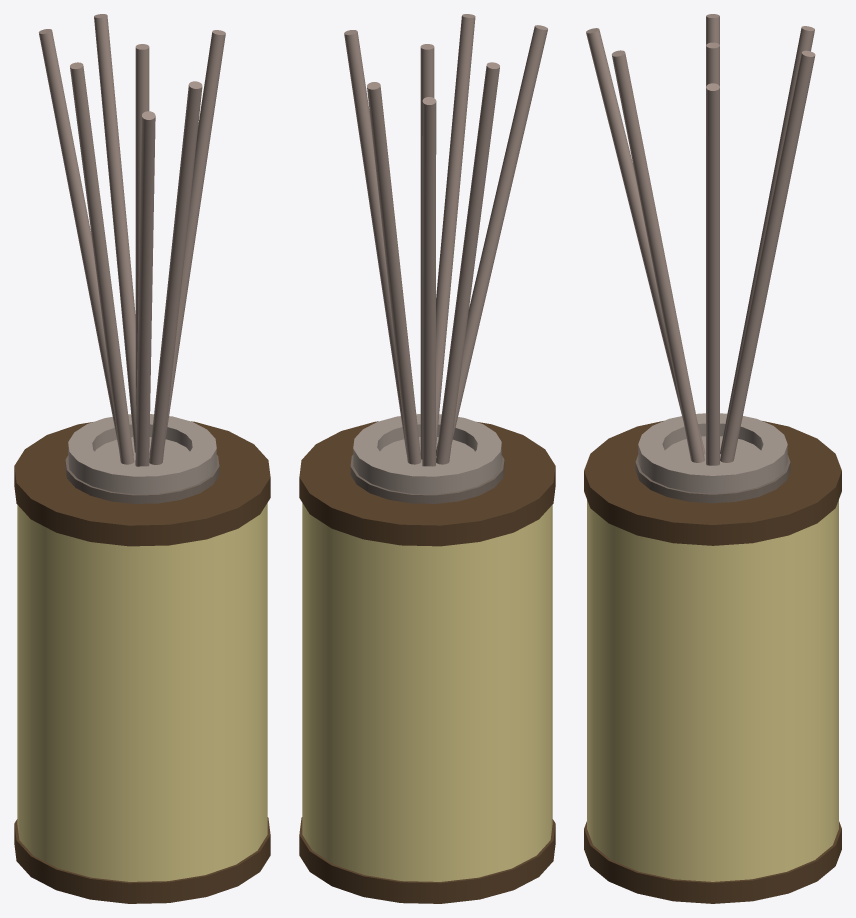
The model's file is colored perfumed sticks livingroom2.fbx.
3 renders of one model, left to right at view 1: azimuth 30°, elevation 25°; view 2: azimuth 150°, elevation 25°; view 3: azimuth 270°, elevation 25°, orthographic.
Parts seen in each view (by area): view 1: pCylinder1, pCylinder13, pCylinder11, pCylinder2, pCylinder12, pCylinder3; view 2: pCylinder1, pCylinder13, pCylinder11, pCylinder2, pCylinder12, pCylinder3; view 3: pCylinder1, pCylinder13, pCylinder11, pCylinder2, pCylinder12, pCylinder3.
Part boxes in pixels (bbox=[...]): pCylinder1: bbox=[17, 503, 267, 881]; pCylinder13: bbox=[38, 14, 225, 466]; pCylinder11: bbox=[14, 421, 270, 546]; pCylinder2: bbox=[68, 414, 216, 494]; pCylinder12: bbox=[14, 817, 270, 903]; pCylinder3: bbox=[65, 455, 219, 503]; pCylinder1: bbox=[302, 503, 552, 881]; pCylinder13: bbox=[344, 14, 547, 466]; pCylinder11: bbox=[299, 421, 555, 546]; pCylinder2: bbox=[353, 414, 501, 494]; pCylinder12: bbox=[299, 817, 555, 903]; pCylinder3: bbox=[350, 455, 504, 503]; pCylinder1: bbox=[587, 500, 838, 881]; pCylinder13: bbox=[586, 14, 815, 465]; pCylinder11: bbox=[584, 421, 841, 545]; pCylinder2: bbox=[638, 413, 787, 493]; pCylinder12: bbox=[584, 821, 841, 903]; pCylinder3: bbox=[635, 455, 790, 503].
Size of the model in its own units: 0.0906 by 0.3117 by 0.0906.
